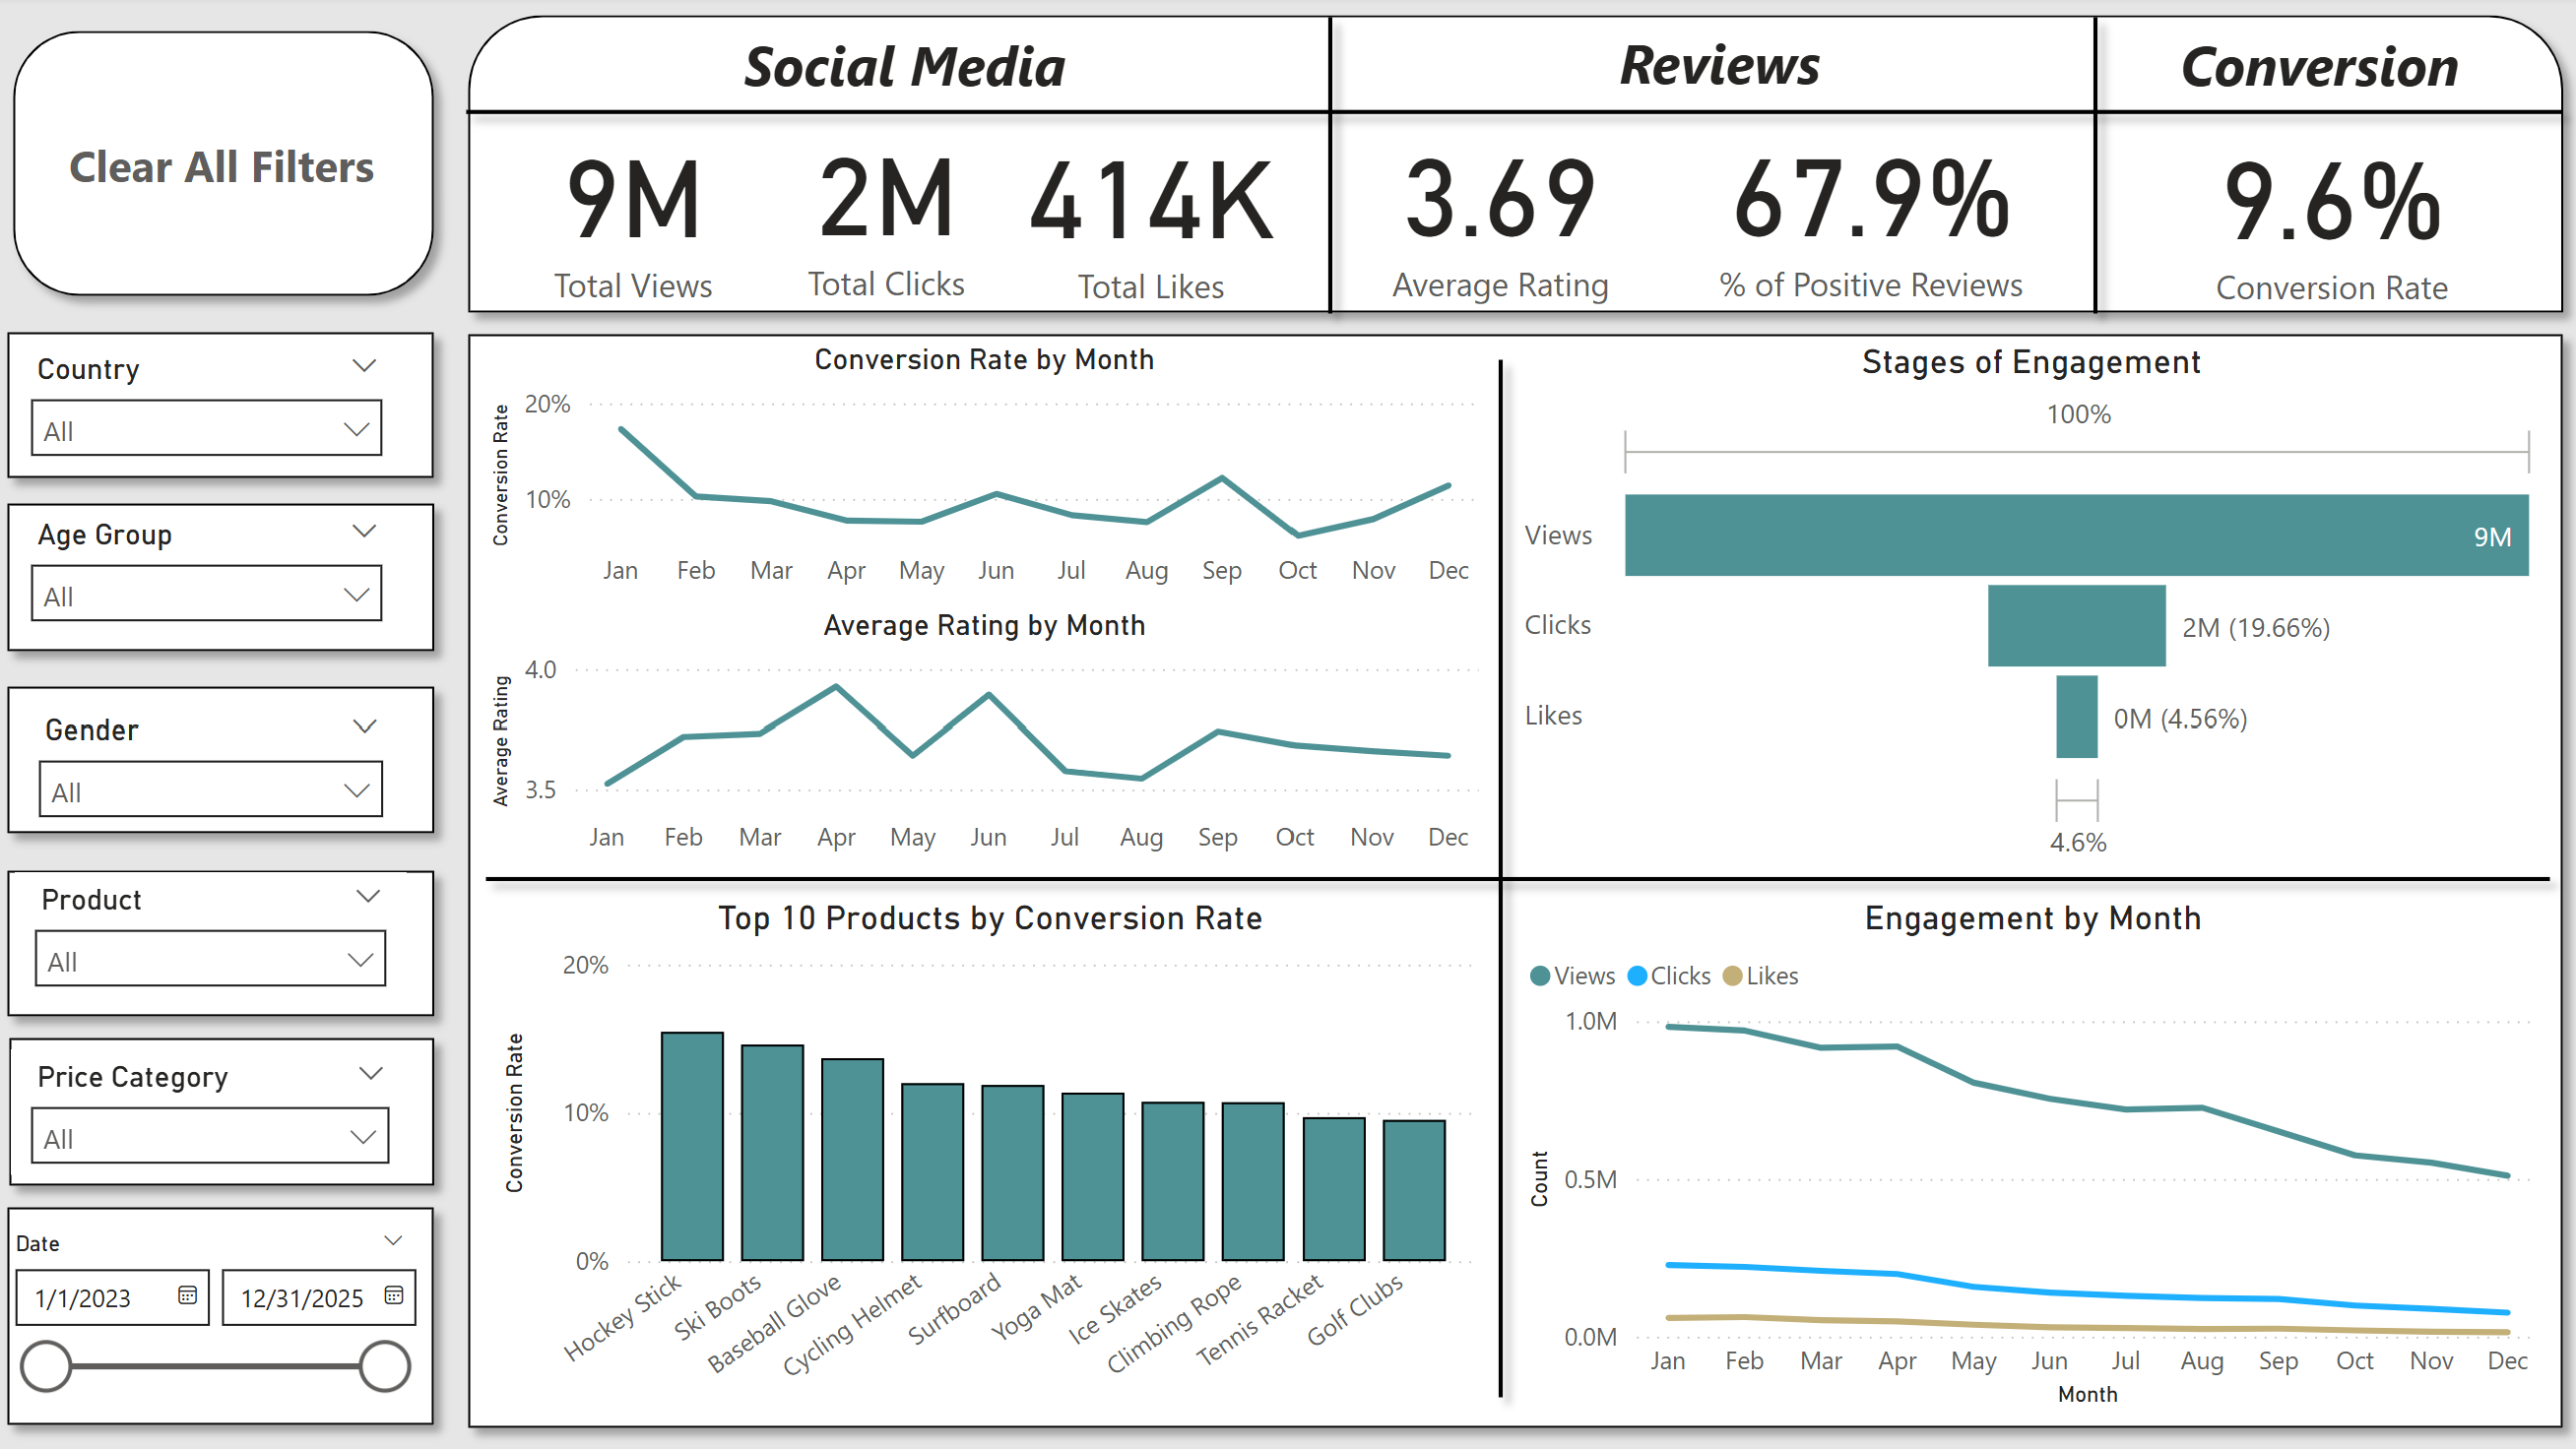

What the dashboard file says about the page in this screenshot:
{"tool":"powerbi","page":{"name":"Overview","canvas":[1280,720],"ordinal":0},"visuals":[{"type":"shape","box":[227.8,1,1052.2,164.9],"z":0},{"type":"shape","box":[228.1,158.2,1051.9,557.8],"z":1000},{"type":"shape","box":[0,157.6,228.6,90],"z":2000},{"type":"shape","box":[2.9,8.8,225.7,148.8],"z":3000},{"type":"shape","box":[0,241.8,228.8,90.9],"z":4000},{"type":"shape","box":[0,422.7,228.8,89.9],"z":5000},{"type":"shape","box":[0,589.4,228.6,125.5],"z":6000},{"type":"shape","box":[1,505.6,227.8,90.9],"z":7000},{"type":"actionButton","box":[12.6,17.5,204.3,132.3],"z":8000},{"type":"slicer","fields":{"Values":["dim_customers.Country"]},"box":[10.7,171.2,193.6,61.3],"z":9000},{"type":"slicer","fields":{"Values":["dim_customers.AgeGroup"]},"box":[10.7,252.9,193.6,61.3],"z":10000},{"type":"slicer","fields":{"Values":["dim_calendar.Date"]},"box":[0,605,216.9,96.3],"z":11000},{"type":"slicer","fields":{"Values":["dim_products.PriceCategory"]},"box":[11,520.6,196.8,62],"z":12000},{"type":"shape","box":[0,332.7,228.8,89.9],"z":13000},{"type":"slicer","fields":{"Values":["dim_customers.Gender"]},"box":[15,348.7,189.9,57],"z":14000},{"type":"slicer","fields":{"Values":["dim_products.ProductName"]},"box":[12.6,432.8,193.6,63.2],"z":15000},{"type":"card","fields":{"Values":["Sum(fact_engagement_data.Views)"]},"box":[243.5,50.3,150,107.9],"z":16000},{"type":"card","fields":{"Values":["Sum(fact_engagement_data.Clicks)"]},"box":[367.8,49.3,151,107.9],"z":17000},{"type":"card","fields":{"Values":["Sum(fact_engagement_data.Likes)"]},"box":[499.3,51.4,150,106.8],"z":18000},{"type":"card","fields":{"Values":["Avg(fact_reviews_sentiment.Rating)"]},"box":[670.8,50.3,150,106.8],"z":19000},{"type":"shape","box":[227,42.1,1053,31.8],"z":20000},{"type":"textbox","box":[367.8,10.3,191.1,47.3],"z":21000},{"type":"shape","box":[616.4,2.1,90.4,164.4],"z":22000},{"type":"textbox","box":[799.2,9.2,118.1,48.3],"z":23000},{"type":"shape","box":[994.4,2.1,91.4,164.4],"z":24000},{"type":"card","fields":{"Values":["fact_customer_journey.Conversion Rate"]},"box":[1060.2,53.4,193.1,103.8],"z":25000},{"type":"card","fields":{"Values":["fact_reviews_sentiment.Positive Review %"]},"box":[825.9,52.4,206.5,102.7],"z":26000},{"type":"textbox","box":[1076.6,10.3,160.3,47.3],"z":27000},{"type":"lineChart","title":"Conversion Rate by Month","fields":{"Y":["fact_customer_journey.Conversion Rate"],"Category":["dim_calendar.MonthNameShort"]},"box":[243.2,171.2,497,131.3],"z":28000},{"type":"shape","box":[719.8,171.2,52.5,530.1],"z":29000},{"type":"shape","box":[236.4,413.4,1036.8,45.7],"z":30000},{"type":"funnel","title":"Stages of Engagement","fields":{"Y":["Sum(fact_engagement_data.Views)","Sum(fact_engagement_data.Clicks)","Sum(fact_engagement_data.Likes)"]},"box":[753.2,171.3,511.1,261.8],"z":31000},{"type":"clusteredColumnChart","title":"Top 10 Products by Conversion Rate","fields":{"Category":["dim_products.ProductName"],"Y":["fact_customer_journey.Conversion Rate"]},"box":[249.3,445.6,491.4,255.5],"z":32000},{"type":"lineChart","title":"Average Rating by Month","fields":{"Category":["dim_calendar.MonthNameShort"],"Y":["Avg(fact_reviews_sentiment.Rating)"]},"box":[243.2,302.5,497,131.3],"z":33000},{"type":"lineChart","title":"Engagement by Month","fields":{"Category":["dim_calendar.MonthNameShort"],"Y":["Sum(fact_engagement_data.Views)","Sum(fact_engagement_data.Clicks)","Sum(fact_engagement_data.Likes)"]},"box":[754.8,445.5,508.7,255.8],"z":34000}]}

Visuals, with their boxes in screenshot pixels (x1, y1, x2, y2), scaled from the page's 1280x720 canvas onto the 2576x1449 screenshot:
shape: BBox(459, 2, 2575, 334)
shape: BBox(459, 318, 2575, 1441)
shape: BBox(0, 317, 460, 498)
shape: BBox(6, 18, 460, 317)
shape: BBox(0, 486, 461, 669)
shape: BBox(0, 850, 461, 1032)
shape: BBox(0, 1186, 460, 1439)
shape: BBox(2, 1018, 461, 1201)
actionButton: BBox(26, 35, 436, 301)
slicer - dim_customers.Country: BBox(22, 345, 412, 468)
slicer - dim_customers.AgeGroup: BBox(22, 509, 412, 632)
slicer - dim_calendar.Date: BBox(0, 1218, 436, 1412)
slicer - dim_products.PriceCategory: BBox(22, 1047, 419, 1172)
shape: BBox(0, 669, 461, 850)
slicer - dim_customers.Gender: BBox(31, 702, 413, 816)
slicer - dim_products.ProductName: BBox(26, 871, 415, 998)
card - Sum(fact_engagement_data.Views): BBox(490, 101, 792, 318)
card - Sum(fact_engagement_data.Clicks): BBox(741, 99, 1044, 316)
card - Sum(fact_engagement_data.Likes): BBox(1004, 103, 1307, 318)
card - Avg(fact_reviews_sentiment.Rating): BBox(1350, 101, 1652, 316)
shape: BBox(457, 85, 2575, 149)
textbox: BBox(741, 21, 1125, 116)
shape: BBox(1241, 4, 1423, 335)
textbox: BBox(1608, 19, 1846, 116)
shape: BBox(2001, 4, 2185, 335)
card - fact_customer_journey.Conversion Rate: BBox(2134, 107, 2522, 316)
card - fact_reviews_sentiment.Positive Review %: BBox(1662, 105, 2078, 312)
textbox: BBox(2166, 21, 2489, 116)
"Conversion Rate by Month" lineChart: BBox(489, 345, 1490, 608)
shape: BBox(1449, 345, 1554, 1412)
shape: BBox(476, 832, 2562, 924)
"Stages of Engagement" funnel: BBox(1515, 345, 2544, 871)
"Top 10 Products by Conversion Rate" clusteredColumnChart: BBox(502, 897, 1491, 1411)
"Average Rating by Month" lineChart: BBox(489, 608, 1490, 873)
"Engagement by Month" lineChart: BBox(1519, 897, 2543, 1412)
